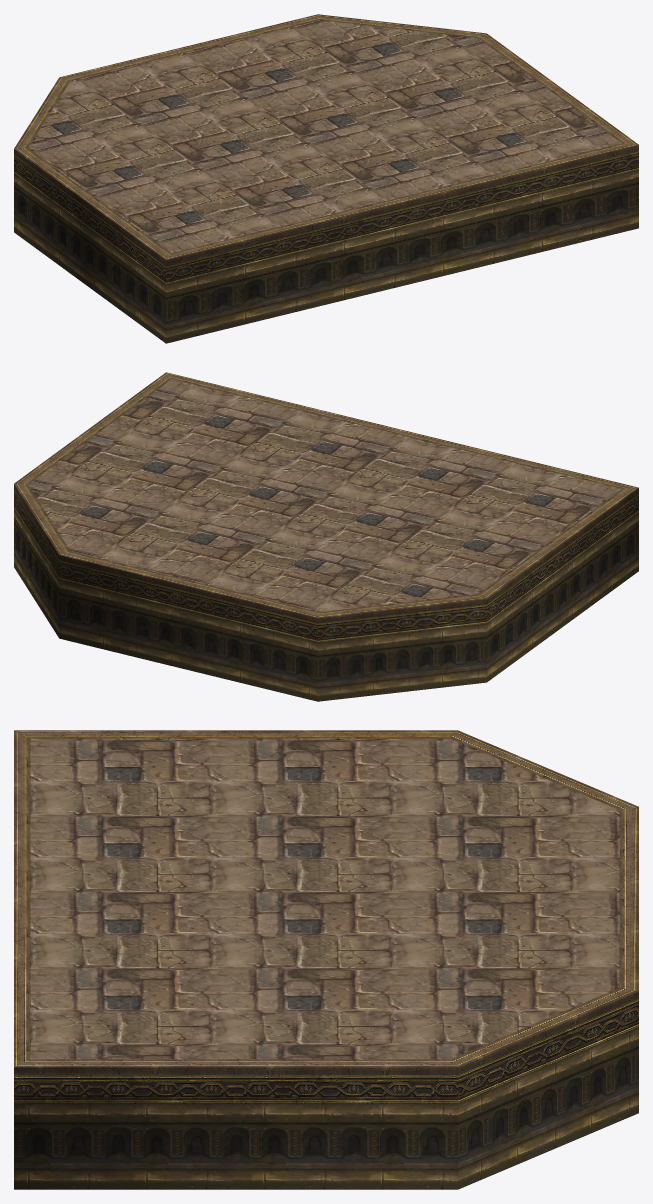
Rendered from Room_02_T.FBX.
3 renders of one model, top to bottom at view 1: azimuth 30°, elevation 25°; view 2: azimuth 150°, elevation 25°; view 3: azimuth 270°, elevation 25°, orthographic. The views are drawn at different scales.
Parts seen in each view (by area): view 1: Room_02_T; view 2: Room_02_T; view 3: Room_02_T.
Part boxes in pixels (box(x1,y1,x2,y2)): Room_02_T: box(14, 14, 638, 343); Room_02_T: box(14, 372, 638, 701); Room_02_T: box(14, 730, 638, 1189).
Bounding box in the file's own units: 18.65 × 3.15 × 14.62.
